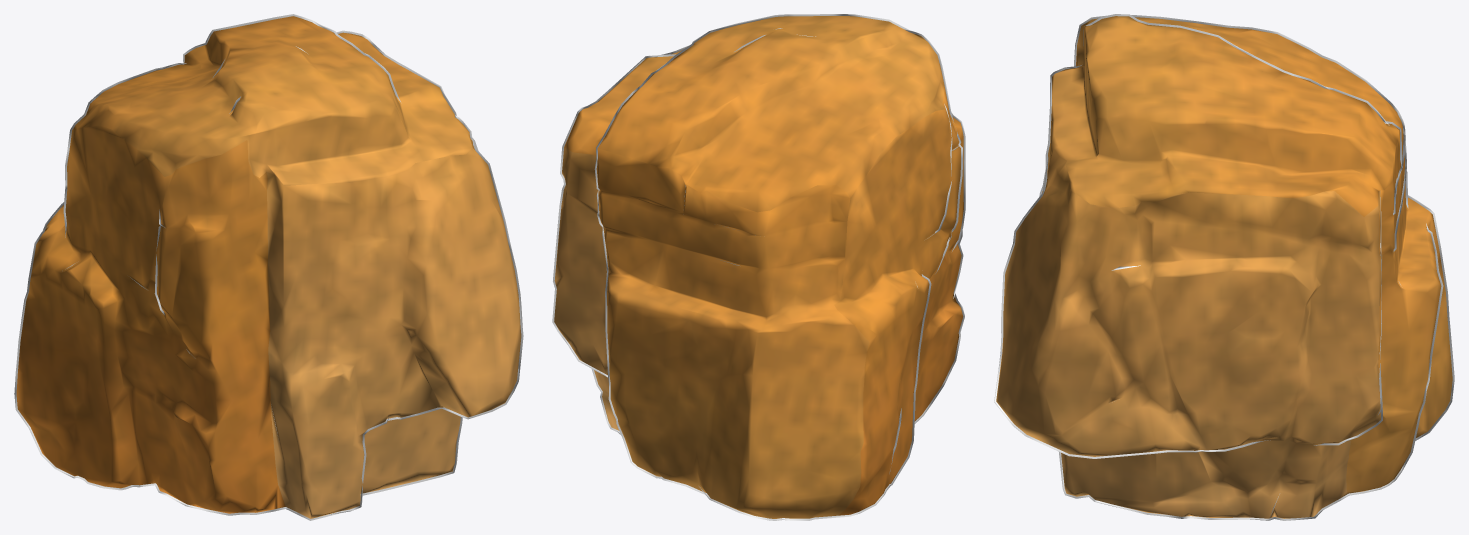
Rendered from mossyRock_ol.glb.
3 renders of one model, left to right at view 1: azimuth 30°, elevation 25°; view 2: azimuth 150°, elevation 25°; view 3: azimuth 270°, elevation 25°, orthographic. The views are drawn at different scales.
Visible parts, largest first — view 1: Rock_01_Low; view 2: Rock_01_Low; view 3: Rock_01_Low.
Part boxes in pixels (box(x1,y1,x2,y2)): Rock_01_Low: box(14, 14, 523, 520); Rock_01_Low: box(552, 14, 965, 520); Rock_01_Low: box(994, 14, 1454, 520).
Bounding box in the file's own units: 213 × 242 × 241.
2 materials, 1 textured.
